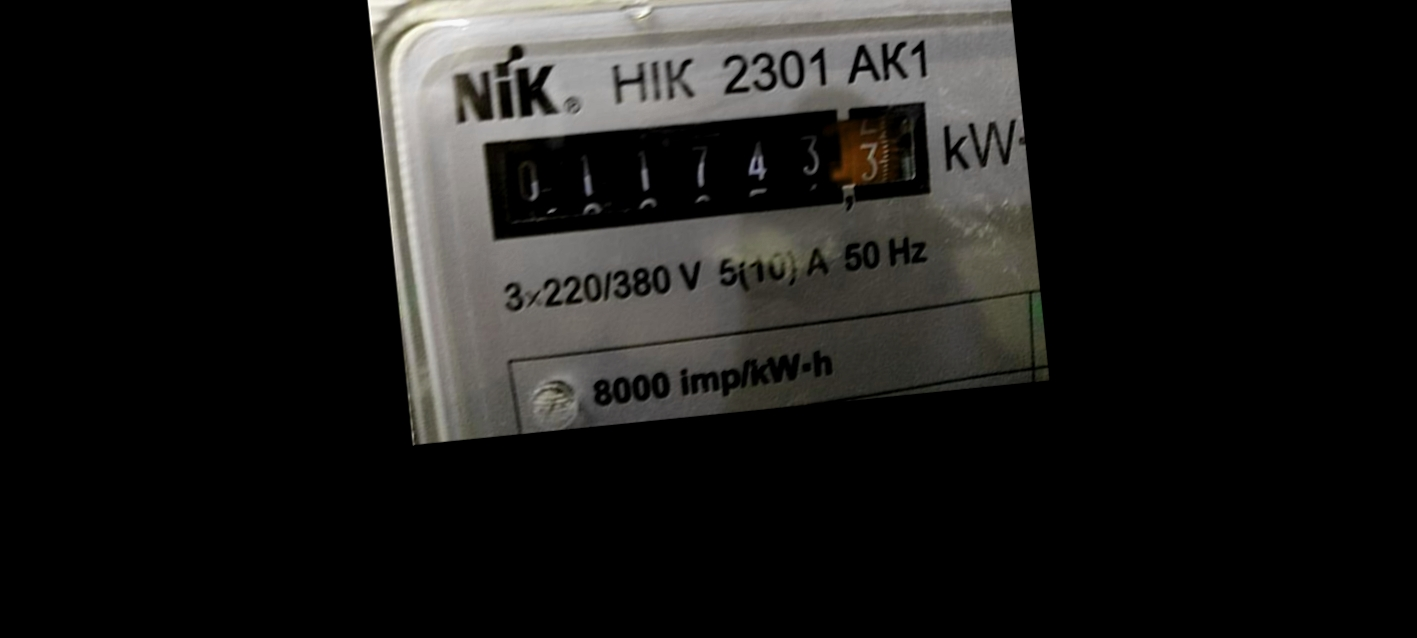0: (512, 154, 546, 204)
1: (632, 144, 657, 194), (577, 150, 599, 199)
3: (795, 129, 828, 178), (856, 137, 884, 183)
4: (741, 133, 774, 184)
7: (688, 140, 716, 190)
screen: (468, 87, 943, 251)
